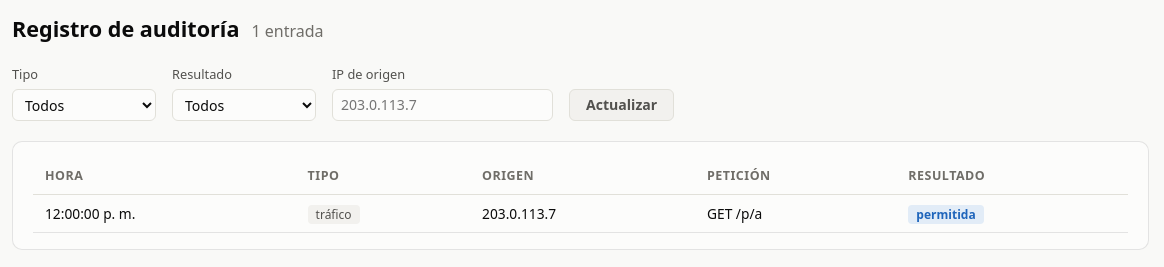
Events › offers to clear the filters when they match nothing
Expected: the text "GET /p/a" is shown, [695,194,896,232]
Step 1. Select "Bloqueadas" in the dropdown labelled "Resultado" → point(244, 105), box [172,89,316,121]
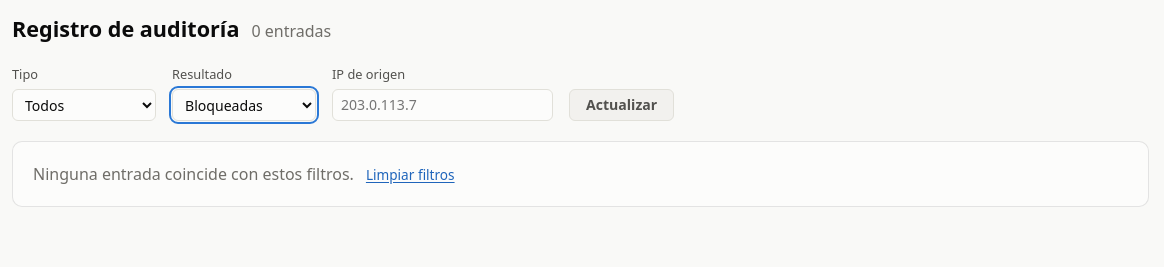
Expected: the text "Ninguna entrada coincide con estos filtros." is shown, [33,162,354,187]
Step 2. Click the button "Limpiar filtros" → point(410, 174), box [362,158,459,190]
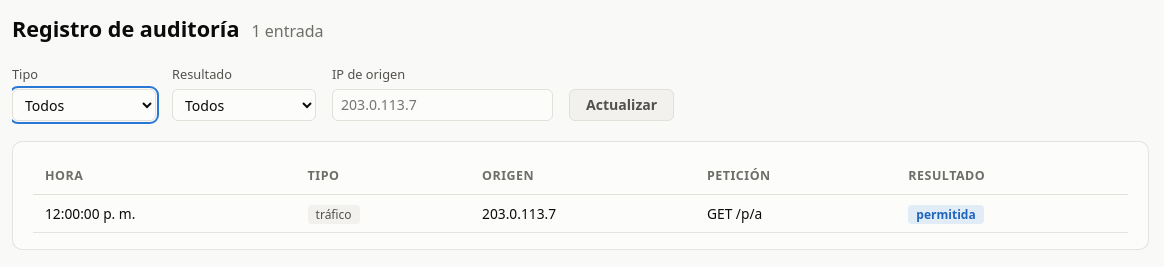
Expected: the text "GET /p/a" is shown, [695,194,896,232]
